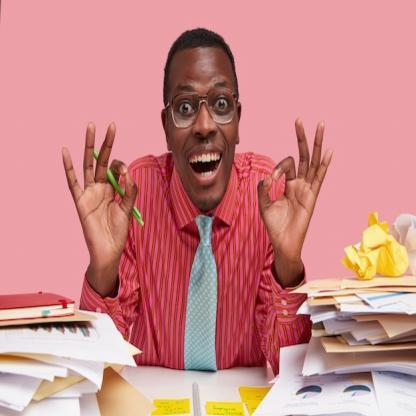ok: (254, 110, 334, 270), (58, 121, 140, 265)
